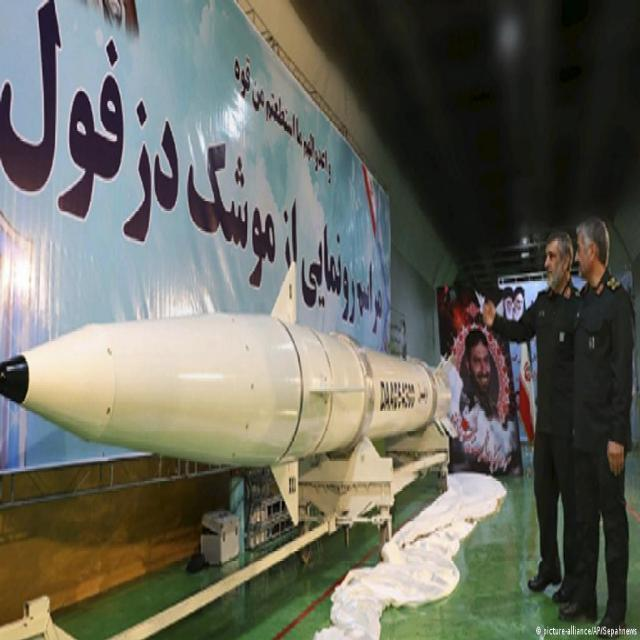Missile: (4, 298, 462, 487)
